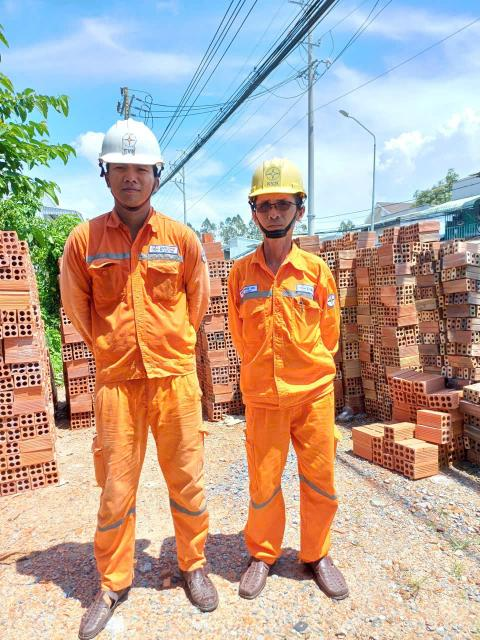helmet: (80, 103, 177, 182), (245, 145, 311, 220)
shoes: (162, 549, 224, 619), (75, 574, 129, 639), (235, 531, 275, 609), (303, 542, 346, 602)
